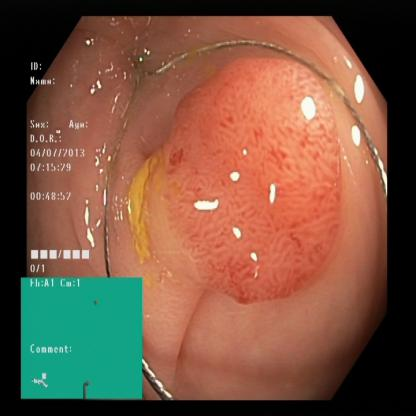Labels: (28, 59, 108, 280), (20, 277, 144, 397)
Polyps: (168, 82, 342, 275)
